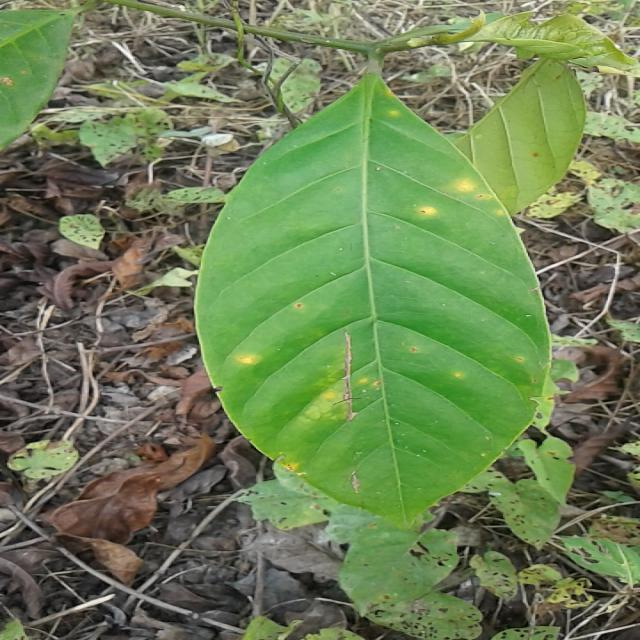Enfermedad-Roya: (192, 68, 554, 530)
